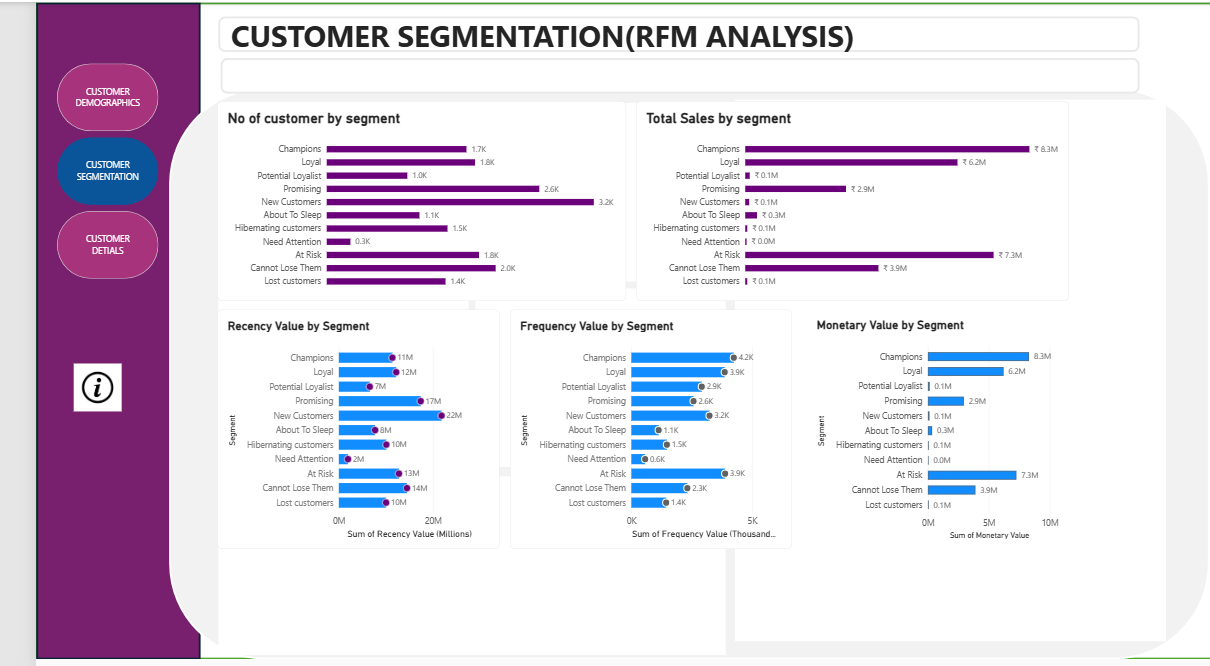

Layout of this report page (visuals, bound fields, positions):
{"tool":"powerbi","page":{"name":"CUSTOMER SEGMENTATION","canvas":[1920,1080],"ordinal":1},"visuals":[{"type":"barChart","title":"No of customer by segment","fields":{"Category":["Segment table.Segment"],"Y":["Count(FactInternetSales.CustomerKey)"]},"box":[295.8,160.4,664.6,325],"z":0},{"type":"barChart","title":"Total Sales by segment","fields":{"Category":["Segment table.Segment"],"Y":["Sum(FactInternetSales.SalesAmount)"]},"box":[977.1,160.4,704.2,325],"z":1},{"type":"barChart","title":"Recency Value by Segment ","fields":{"Category":["Segment table.Segment"],"Y":["Sum(RFM Table.Recency Value)"]},"box":[295.8,500,458.3,389.6],"z":2},{"type":"barChart","title":"Frequency Value by Segment ","fields":{"Category":["Segment table.Segment"],"Y":["Sum(RFM Table.Frequency Value)"]},"box":[770.8,500,458.3,389.6],"z":3},{"type":"barChart","title":"Monetary Value by Segment","fields":{"Category":["Segment table.Segment"],"Y":["Sum(RFM Table.Monetary Value)"]},"box":[1254.2,500,427.1,389.6],"z":4},{"type":"textbox","box":[316.7,22.9,1264.6,77.1],"z":5},{"type":"pageNavigator","box":[34.1,100,165.9,352.3],"z":6},{"type":"image","box":[0,588,200,78],"z":7}]}

Visuals, with their boxes on the page's 1920x1080 design canvas (x1, y1, x2, y2). These are canvas units, not pixel positions in the 1210x666 screenshot, which may show the page scaled, cropped or inside an application window:
"No of customer by segment" barChart: [296,160,960,485]
"Total Sales by segment" barChart: [977,160,1681,485]
"Recency Value by Segment " barChart: [296,500,754,890]
"Frequency Value by Segment " barChart: [771,500,1229,890]
"Monetary Value by Segment" barChart: [1254,500,1681,890]
textbox: [317,23,1581,100]
pageNavigator: [34,100,200,452]
image: [0,588,200,666]
